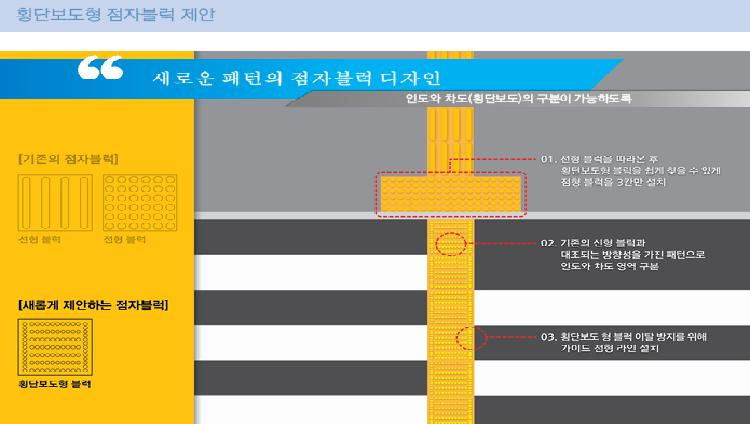guide_blocks: (382, 177, 520, 210)
